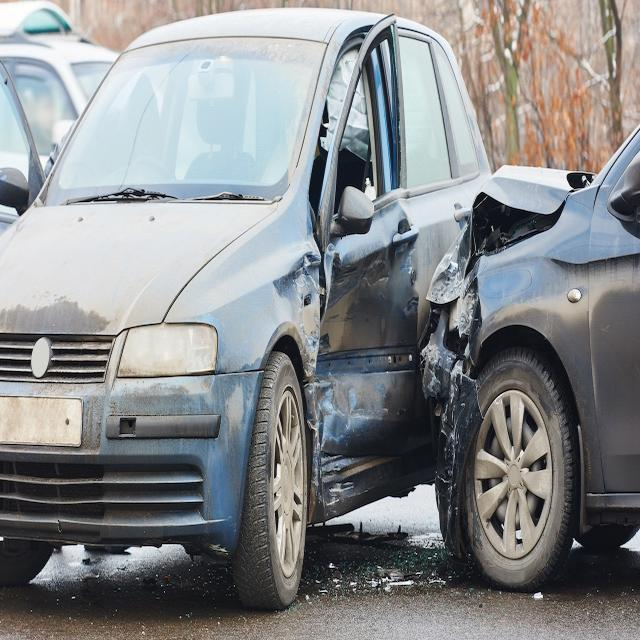crush: (273, 11, 419, 513), (418, 178, 568, 559)
